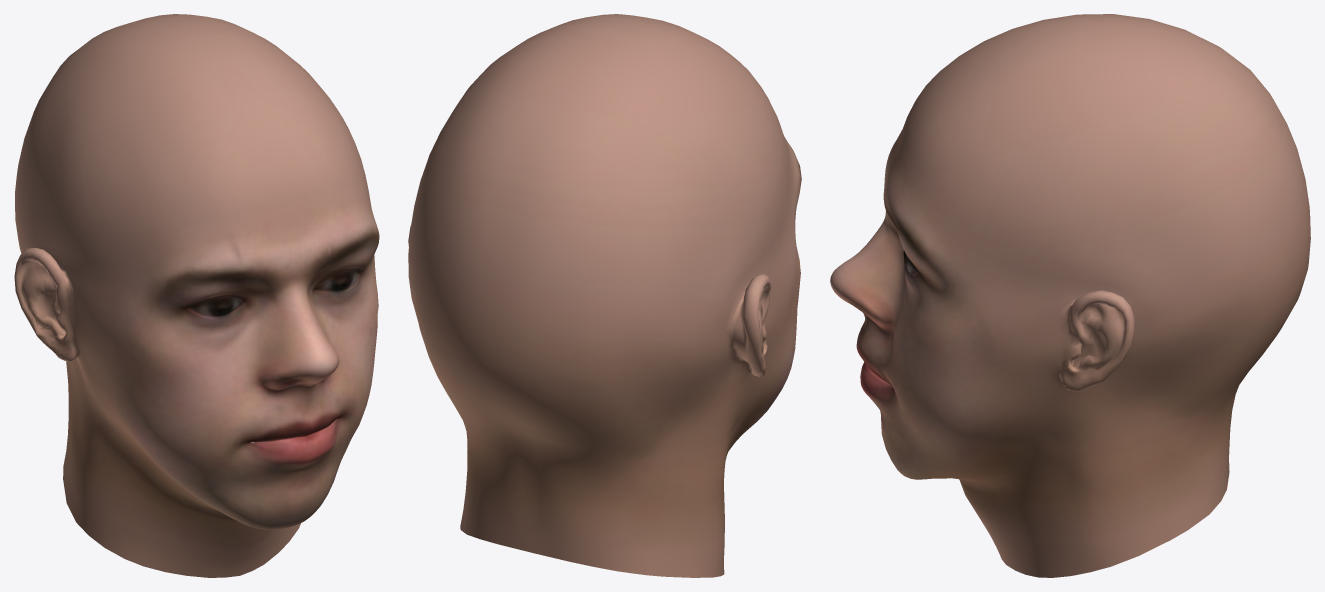
The picture shows the model from 3 angles, left to right: view 1: azimuth 30°, elevation 25°; view 2: azimuth 150°, elevation 25°; view 3: azimuth 270°, elevation 25°; orthographic projection. The views are drawn at different scales.
Visible parts, largest first — view 1: HeadHires; view 2: HeadHires; view 3: HeadHires.
Boxes of the visible parts, x1,y1,x2,y2 form: HeadHires: [14, 14, 379, 577]; HeadHires: [408, 14, 801, 577]; HeadHires: [830, 14, 1310, 577].
Size of the model in its own units: 189 by 283 by 235.
1 material, 1 textured.
